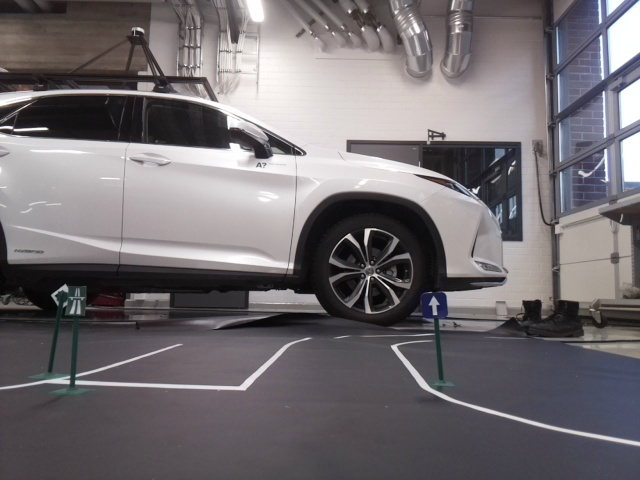OneWay: (421, 291, 447, 320)
